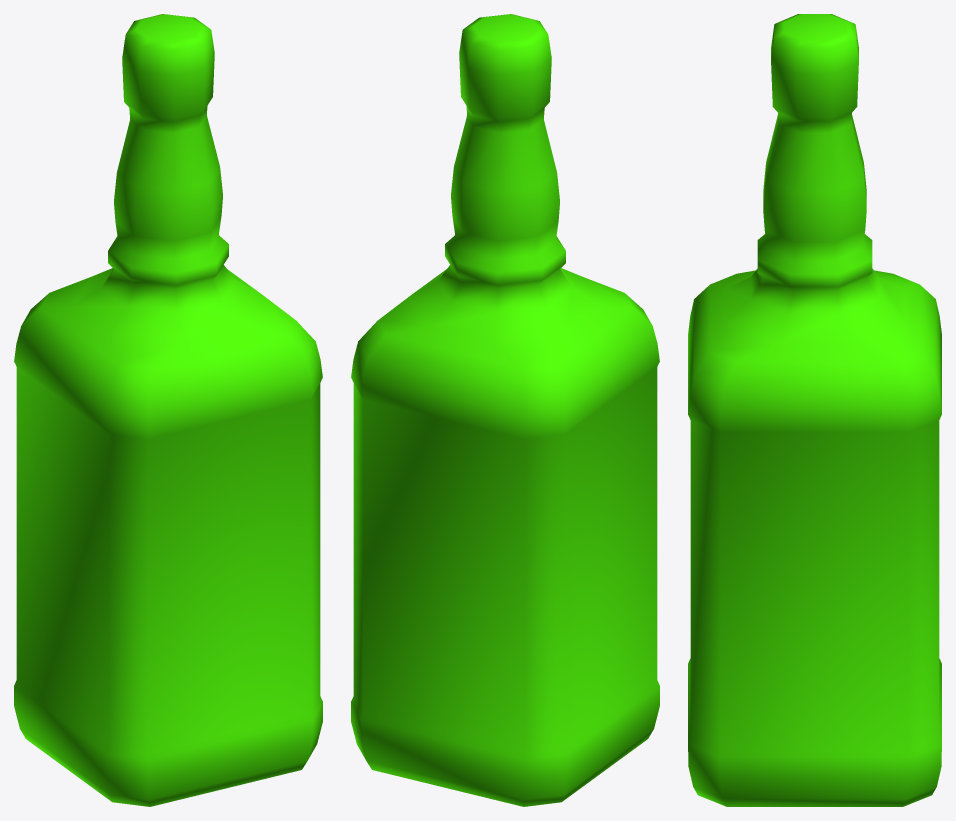
Rendered from 20_whiskey_jackd.gltf.
3 renders of one model, left to right at view 1: azimuth 30°, elevation 25°; view 2: azimuth 150°, elevation 25°; view 3: azimuth 270°, elevation 25°, orthographic.
Parts seen in each view (by area): view 1: Jack_Daniel's_Atlas_0; view 2: Jack_Daniel's_Atlas_0; view 3: Jack_Daniel's_Atlas_0.
Part boxes in pixels (x1=…): Jack_Daniel's_Atlas_0: x1=14, y1=14, x2=322, y2=806; Jack_Daniel's_Atlas_0: x1=351, y1=14, x2=659, y2=806; Jack_Daniel's_Atlas_0: x1=688, y1=14, x2=941, y2=806.
Size of the model in its own units: 8.77 by 28.09 by 8.79.
Materials: 1 (1 with a texture image).
